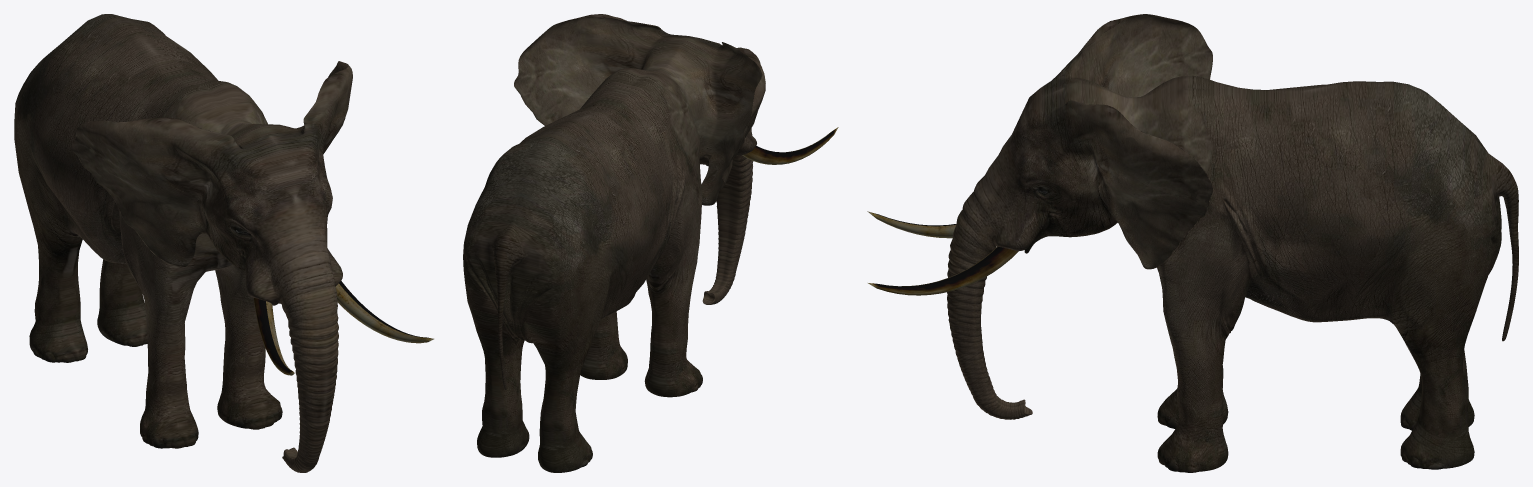
Rendered from elephant.gltf.
The picture shows the model from 3 angles, left to right: view 1: azimuth 30°, elevation 25°; view 2: azimuth 150°, elevation 25°; view 3: azimuth 270°, elevation 25°; orthographic projection. The views are drawn at different scales.
Parts seen in each view (by area): view 1: 3DSMeshMatrix, 3DSMeshMatrix.004, 3DSMeshMatrix.003; view 2: 3DSMeshMatrix, 3DSMeshMatrix.003; view 3: 3DSMeshMatrix, 3DSMeshMatrix.004, 3DSMeshMatrix.003.
Part boxes in pixels (<box>): 3DSMeshMatrix: <box>14,14,352,472</box>; 3DSMeshMatrix.004: <box>335,281,433,343</box>; 3DSMeshMatrix.003: <box>253,298,294,375</box>; 3DSMeshMatrix: <box>463,14,765,472</box>; 3DSMeshMatrix.003: <box>742,127,838,164</box>; 3DSMeshMatrix: <box>947,14,1518,472</box>; 3DSMeshMatrix.004: <box>868,246,1018,295</box>; 3DSMeshMatrix.003: <box>867,211,956,238</box>.
Bounding box in the file's own units: 26.9 × 35.27 × 55.71.
3 materials, 2 textured.
